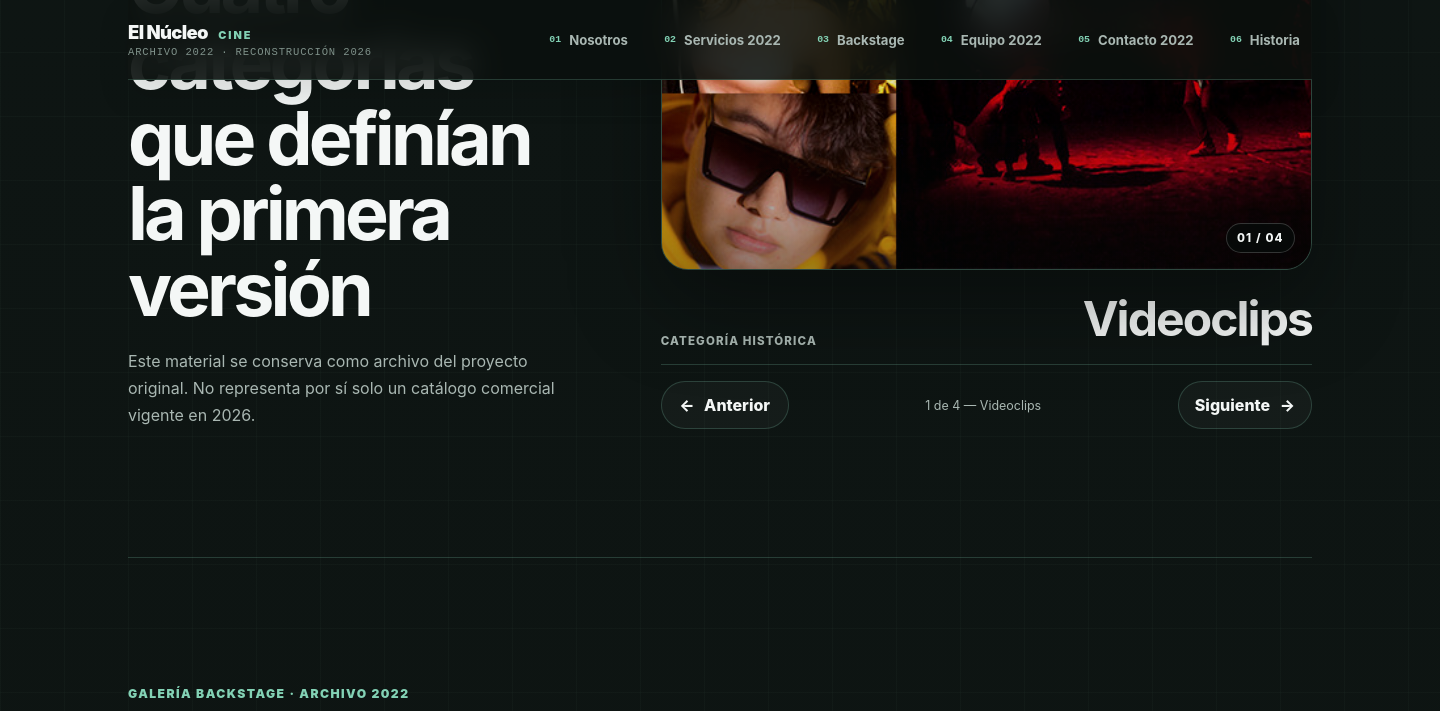
Scenario: El Núcleo modern migration › wraps backwards from the first archive item
(page scrolled)
Click the button named "categoría anterior": {"x": 725, "y": 405} [661,381,789,429]
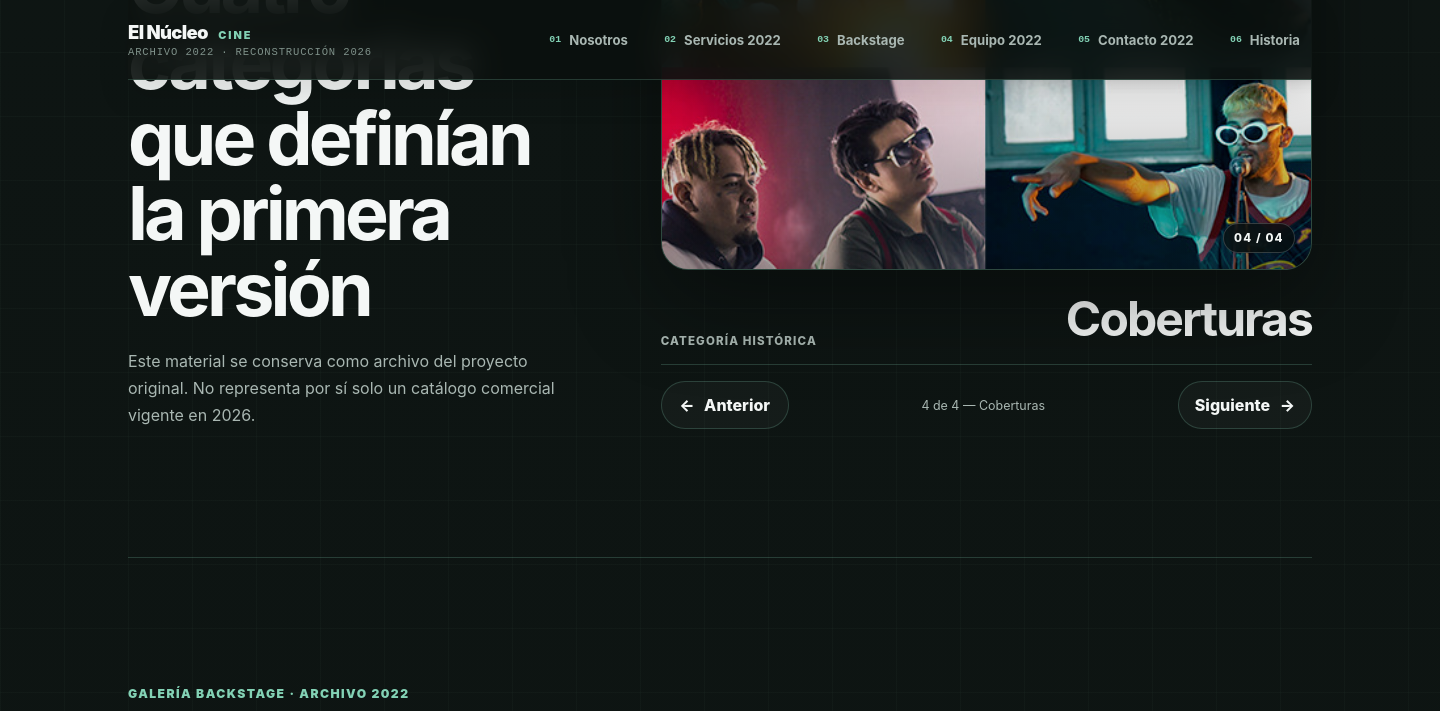
Now the message reads "4 de 4 — Coberturas", box [921,398,1045,413]
